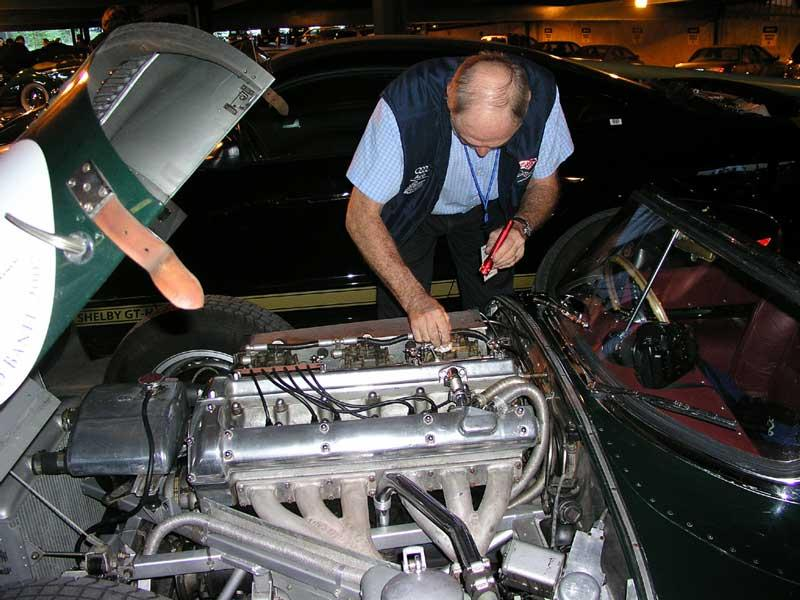person: (341, 49, 577, 347)
